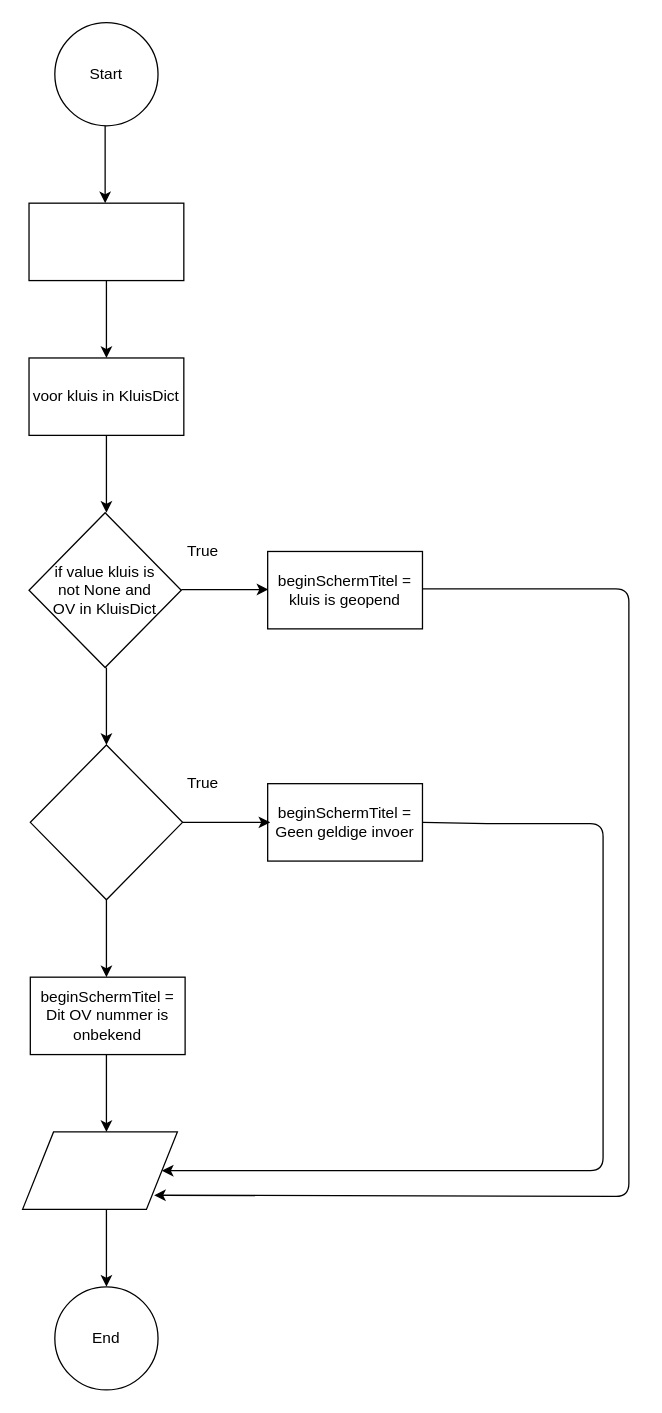
Some shapes in this 662 by 1413 pixel diagram are drawn without their labels. Here are the shapes that lost their labels. From the top down, the box of each, then its label:
(28, 202, 184, 281): KluisDict = dictionary()
(29, 744, 183, 900): ValueError
(21, 1131, 177, 1209): return
